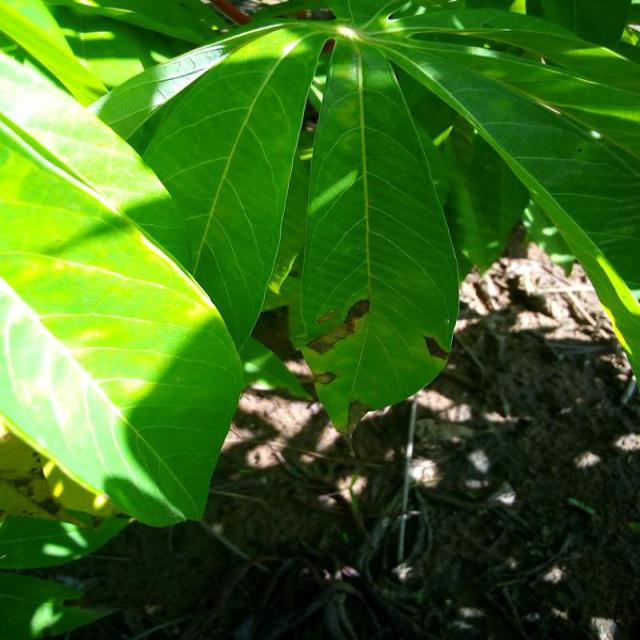cassava leaf: (0, 1, 638, 529), (0, 114, 245, 528), (289, 34, 460, 440)
